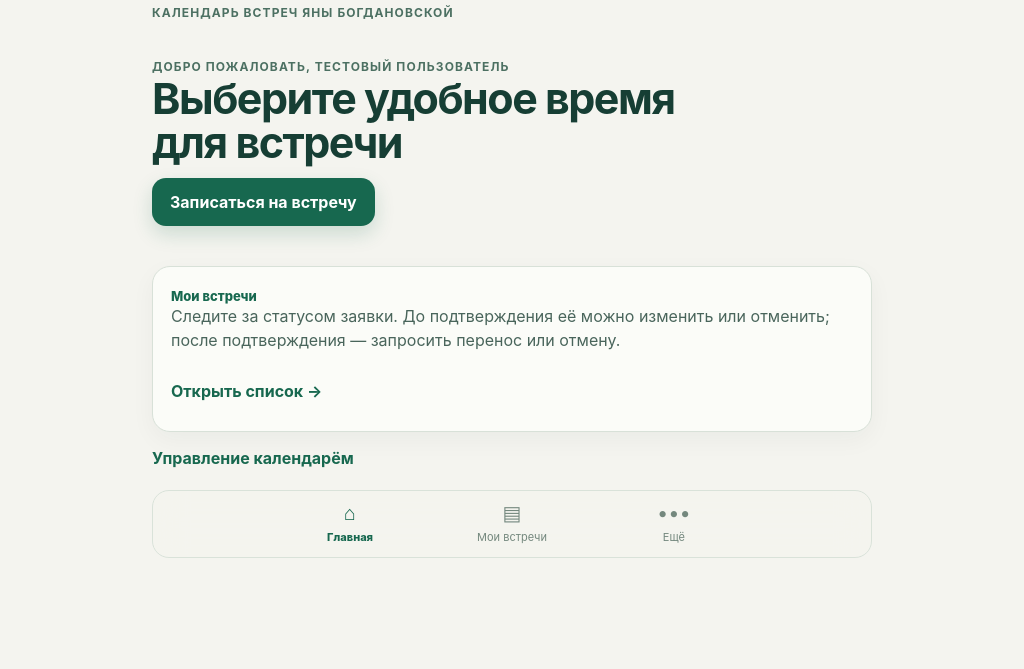
Scenario: локальный UAT экранов › объясняет администратору, что ручное событие нельзя создать в прошлом
The image size is (1024, 669).
Click the button "Управление календарём".
click(253, 458)  # box [152,436,354,480]
(page scrolled)
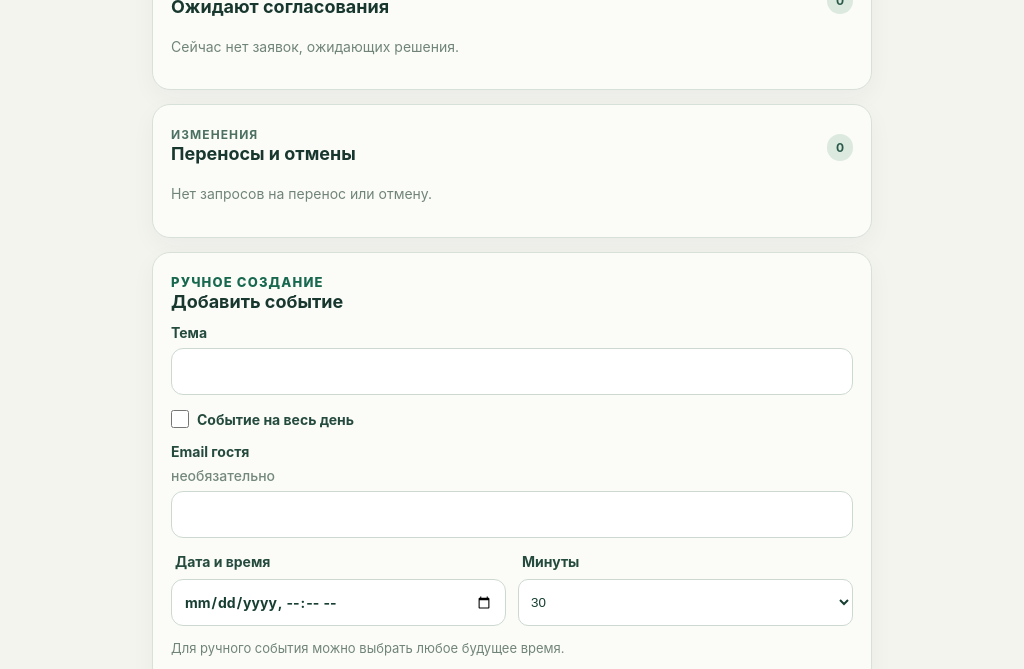
Type "Тест" into the field labelled "Тема".
click(512, 372); type("Тест")  # box [171,348,853,395]
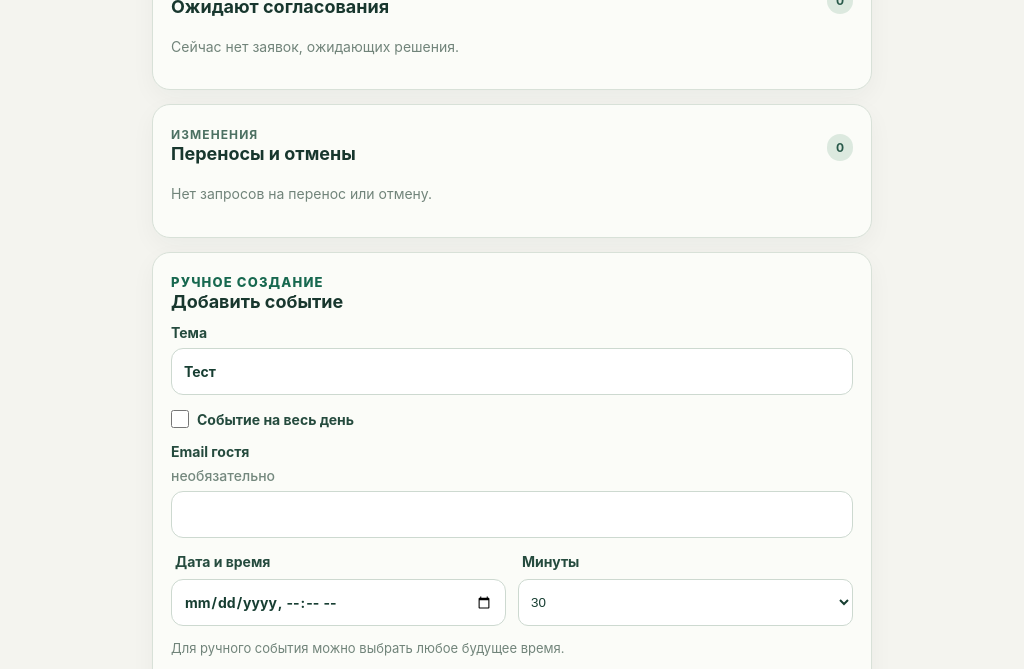
Type "2020-01-01T12:00" into the field labelled "Дата и время".
click(338, 603); type("2020-01-01T12:00")  # box [171,579,506,626]
(page scrolled)
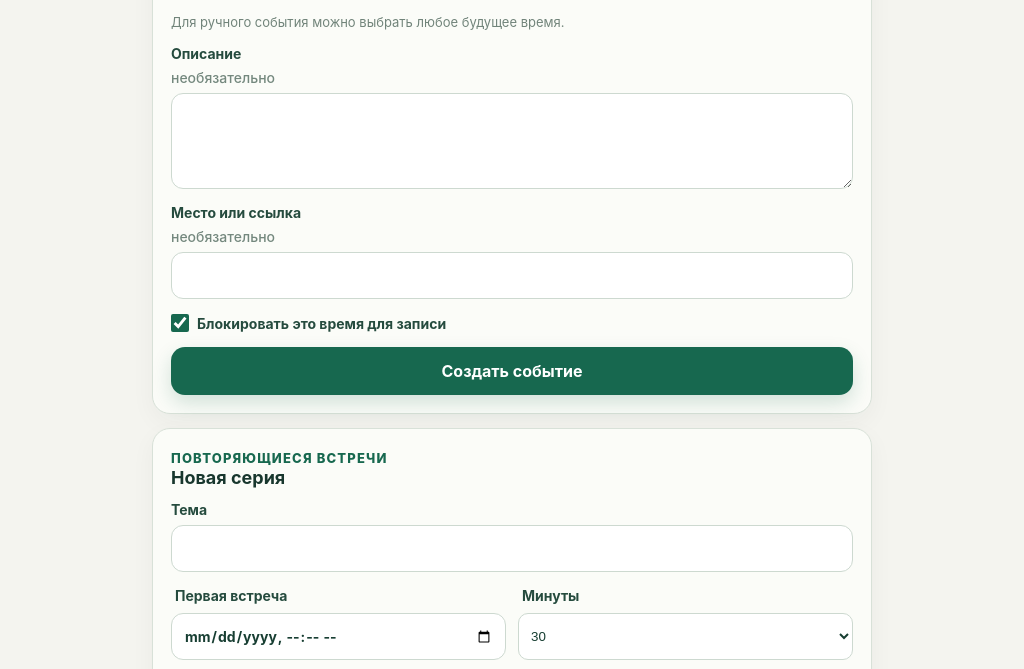
Click the button "Создать событие".
click(512, 371)  # box [171,347,853,395]
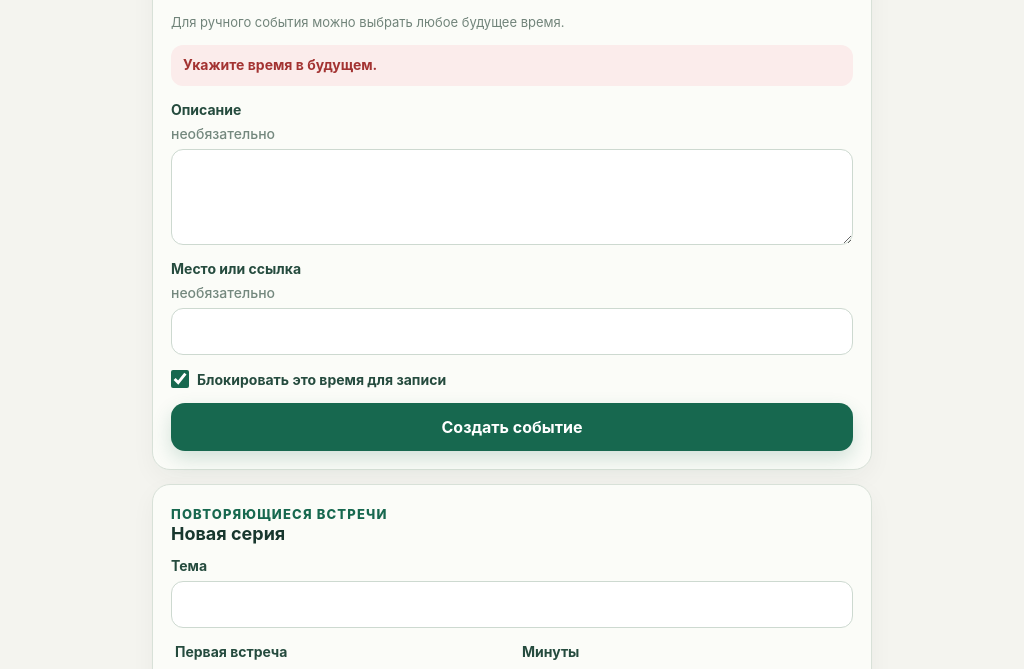
Expected: the text "Для ручного события можно выбрать любое будущее время." is shown, [171,14,564,30]
Expected: the message reads "Укажите время в будущем.", [183,56,377,73]
